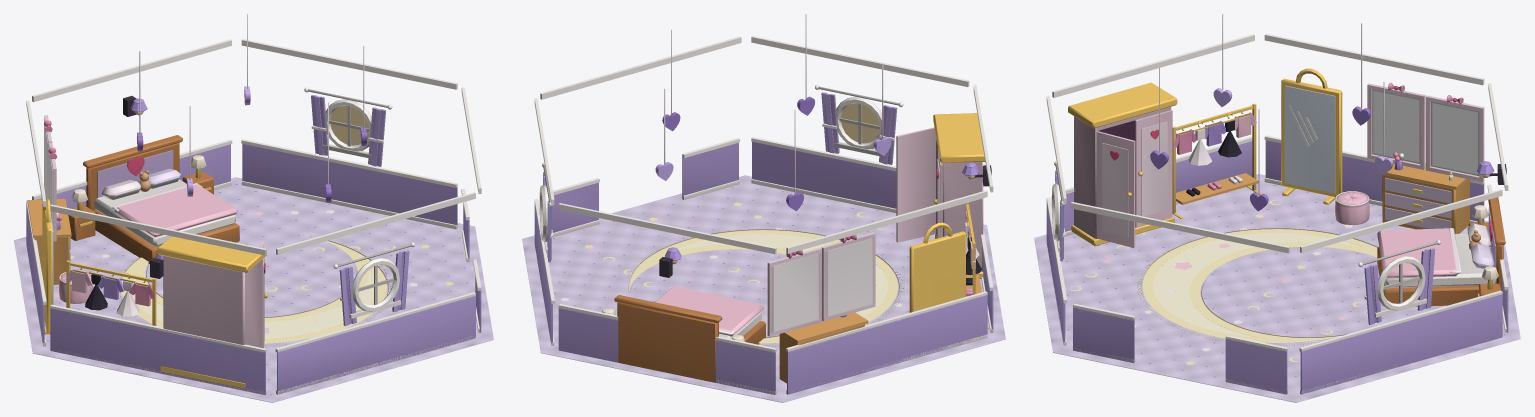
The model's file is zon_room_wardrobe_lite.glb.
3 views of the same model, side by side, from view 1: azimuth 30°, elevation 25°; view 2: azimuth 150°, elevation 25°; view 3: azimuth 270°, elevation 25° (orthographic).
Parts seen in each view (by area): view 1: SM_zon_room_wardrobe_lite_room_floor_plaster_xm1_zm1, SM_zon_room_wardrobe_lite_room_floor_fabric_xm1_zm1, SM_zon_room_wardrobe_lite_room_floor_wood_xm1_zm1, SM_zon_room_wardrobe_lite_room_floor_gloss_xm1_zm1, SM_zon_room_wardrobe_lite_room_rug_fabric_xm1_zm1, SM_zon_room_wardrobe_lite_glow_vc_xm1_zm1; view 2: SM_zon_room_wardrobe_lite_room_floor_plaster_xm1_zm1, SM_zon_room_wardrobe_lite_room_floor_fabric_xm1_zm1, SM_zon_room_wardrobe_lite_room_floor_wood_xm1_zm1, SM_zon_room_wardrobe_lite_room_floor_gloss_xm1_zm1, SM_zon_room_wardrobe_lite_room_rug_fabric_xm1_zm1, SM_zon_room_wardrobe_lite_glow_vc_xm1_zm1; view 3: SM_zon_room_wardrobe_lite_room_floor_plaster_xm1_zm1, SM_zon_room_wardrobe_lite_room_floor_fabric_xm1_zm1, SM_zon_room_wardrobe_lite_room_rug_fabric_xm1_zm1, SM_zon_room_wardrobe_lite_room_floor_gloss_xm1_zm1, SM_zon_room_wardrobe_lite_room_floor_wood_xm1_zm1, SCREEN_fur_dresser_wardrobe_you__0, SCREEN_fur_dresser_wardrobe_them__0.
Boxes of the visible parts, x1,y1,x2,y2 form: SM_zon_room_wardrobe_lite_room_floor_plaster_xm1_zm1: (26,14,481,394); SM_zon_room_wardrobe_lite_room_floor_fabric_xm1_zm1: (14,177,493,402); SM_zon_room_wardrobe_lite_room_floor_wood_xm1_zm1: (27,135,239,284); SM_zon_room_wardrobe_lite_room_floor_gloss_xm1_zm1: (42,168,267,388); SM_zon_room_wardrobe_lite_room_rug_fabric_xm1_zm1: (118,236,391,347); SM_zon_room_wardrobe_lite_glow_vc_xm1_zm1: (134,105,368,145); SM_zon_room_wardrobe_lite_room_floor_plaster_xm1_zm1: (534,14,993,394); SM_zon_room_wardrobe_lite_room_floor_fabric_xm1_zm1: (522,175,1005,402); SM_zon_room_wardrobe_lite_room_floor_wood_xm1_zm1: (614,274,981,383); SM_zon_room_wardrobe_lite_room_floor_gloss_xm1_zm1: (909,113,989,328); SM_zon_room_wardrobe_lite_room_rug_fabric_xm1_zm1: (627,228,903,346); SM_zon_room_wardrobe_lite_glow_vc_xm1_zm1: (672,103,974,264); SM_zon_room_wardrobe_lite_room_floor_plaster_xm1_zm1: (1046,14,1508,394); SM_zon_room_wardrobe_lite_room_floor_fabric_xm1_zm1: (1034,174,1520,402); SM_zon_room_wardrobe_lite_room_rug_fabric_xm1_zm1: (1137,227,1378,346); SM_zon_room_wardrobe_lite_room_floor_gloss_xm1_zm1: (1068,68,1493,296); SM_zon_room_wardrobe_lite_room_floor_wood_xm1_zm1: (1176,163,1505,306); SCREEN_fur_dresser_wardrobe_you__0: (1373,91,1419,162); SCREEN_fur_dresser_wardrobe_them__0: (1432,103,1477,174).
Bounding box in the file's own units: 10.57 × 5.01 × 9.53.
